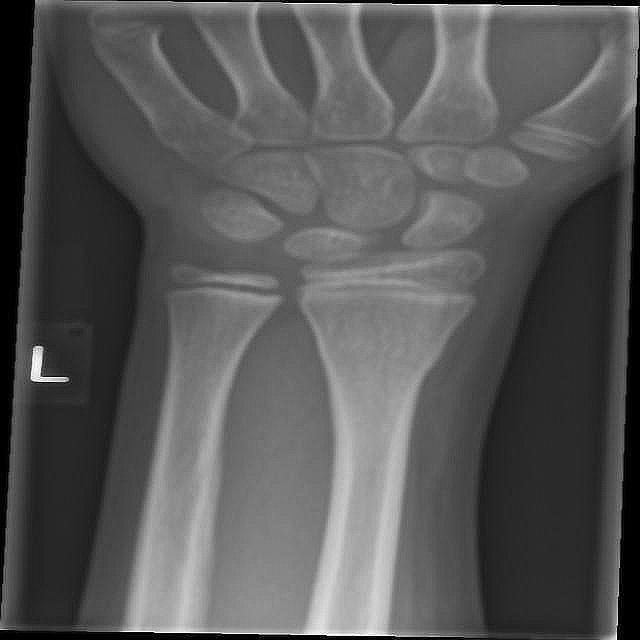bone: (316, 326, 448, 373)
